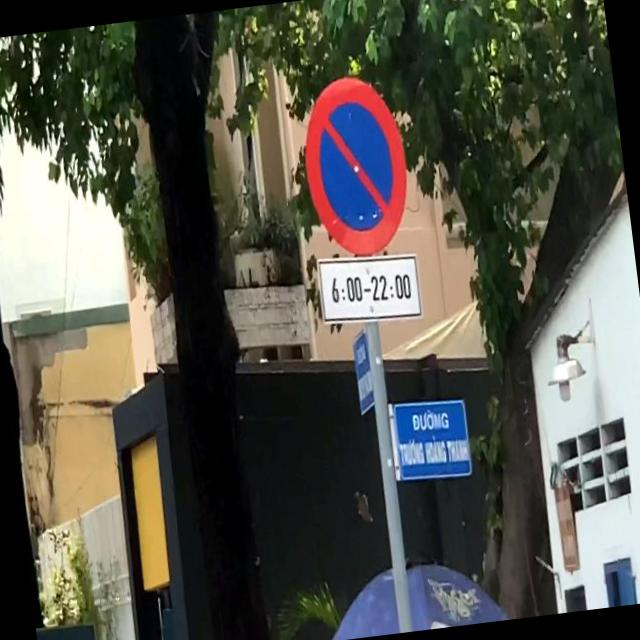P-131a: (295, 69, 416, 261)
